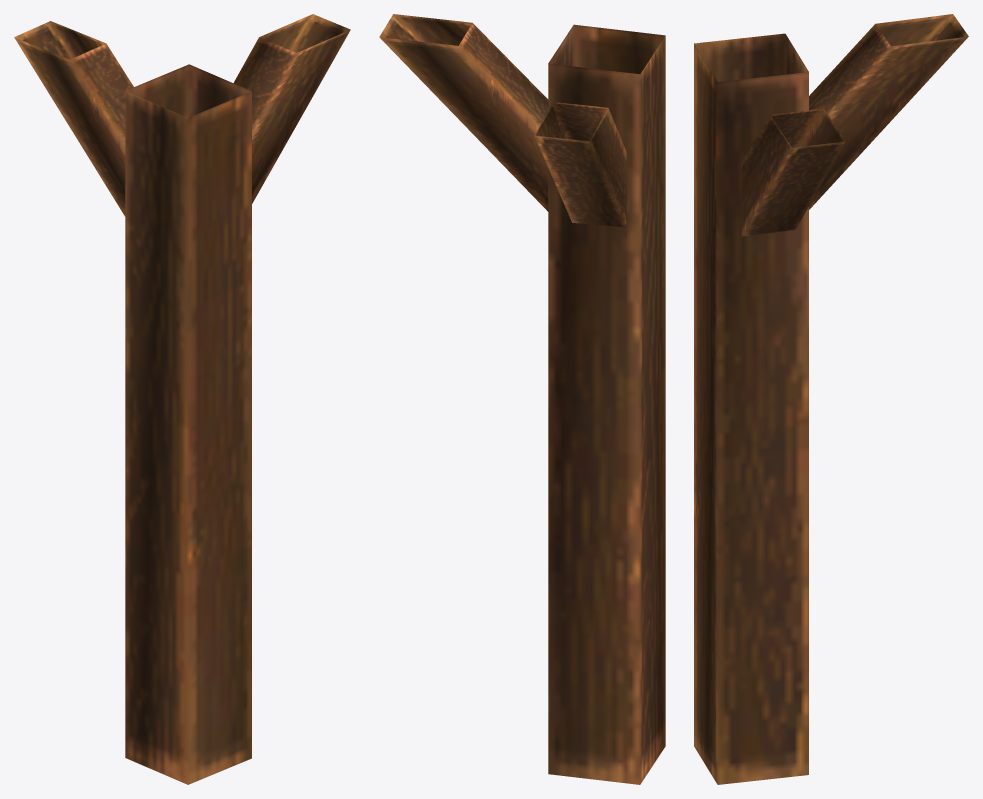
File: SWORDLIGHT20_JAILPLATSUPPORT77.fbx
3 renders of one model, left to right at view 1: azimuth 30°, elevation 25°; view 2: azimuth 150°, elevation 25°; view 3: azimuth 270°, elevation 25°, orthographic. The views are drawn at different scales.
Parts seen in each view (by area): view 1: SWORDLIGHT20_JAILPLATSUPPORT77; view 2: SWORDLIGHT20_JAILPLATSUPPORT77; view 3: SWORDLIGHT20_JAILPLATSUPPORT77.
Part boxes in pixels (x1,y1,x2,y2): SWORDLIGHT20_JAILPLATSUPPORT77: (14,14,350,784); SWORDLIGHT20_JAILPLATSUPPORT77: (379,14,665,784); SWORDLIGHT20_JAILPLATSUPPORT77: (694,14,968,784).
Size of the model in its own units: 13415 by 32999 by 11644.
Materials: 1 (1 with a texture image).
